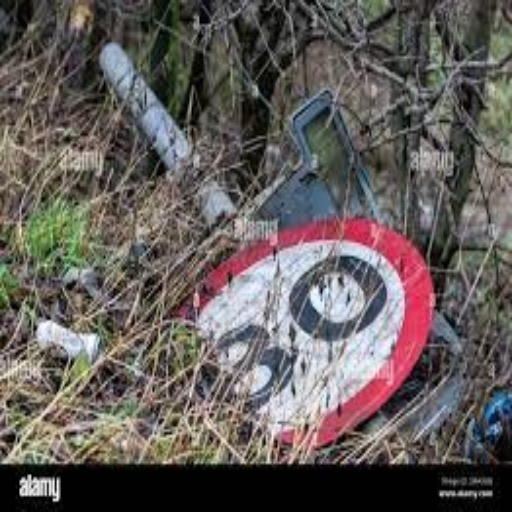Speed limit: (154, 216, 450, 430)
